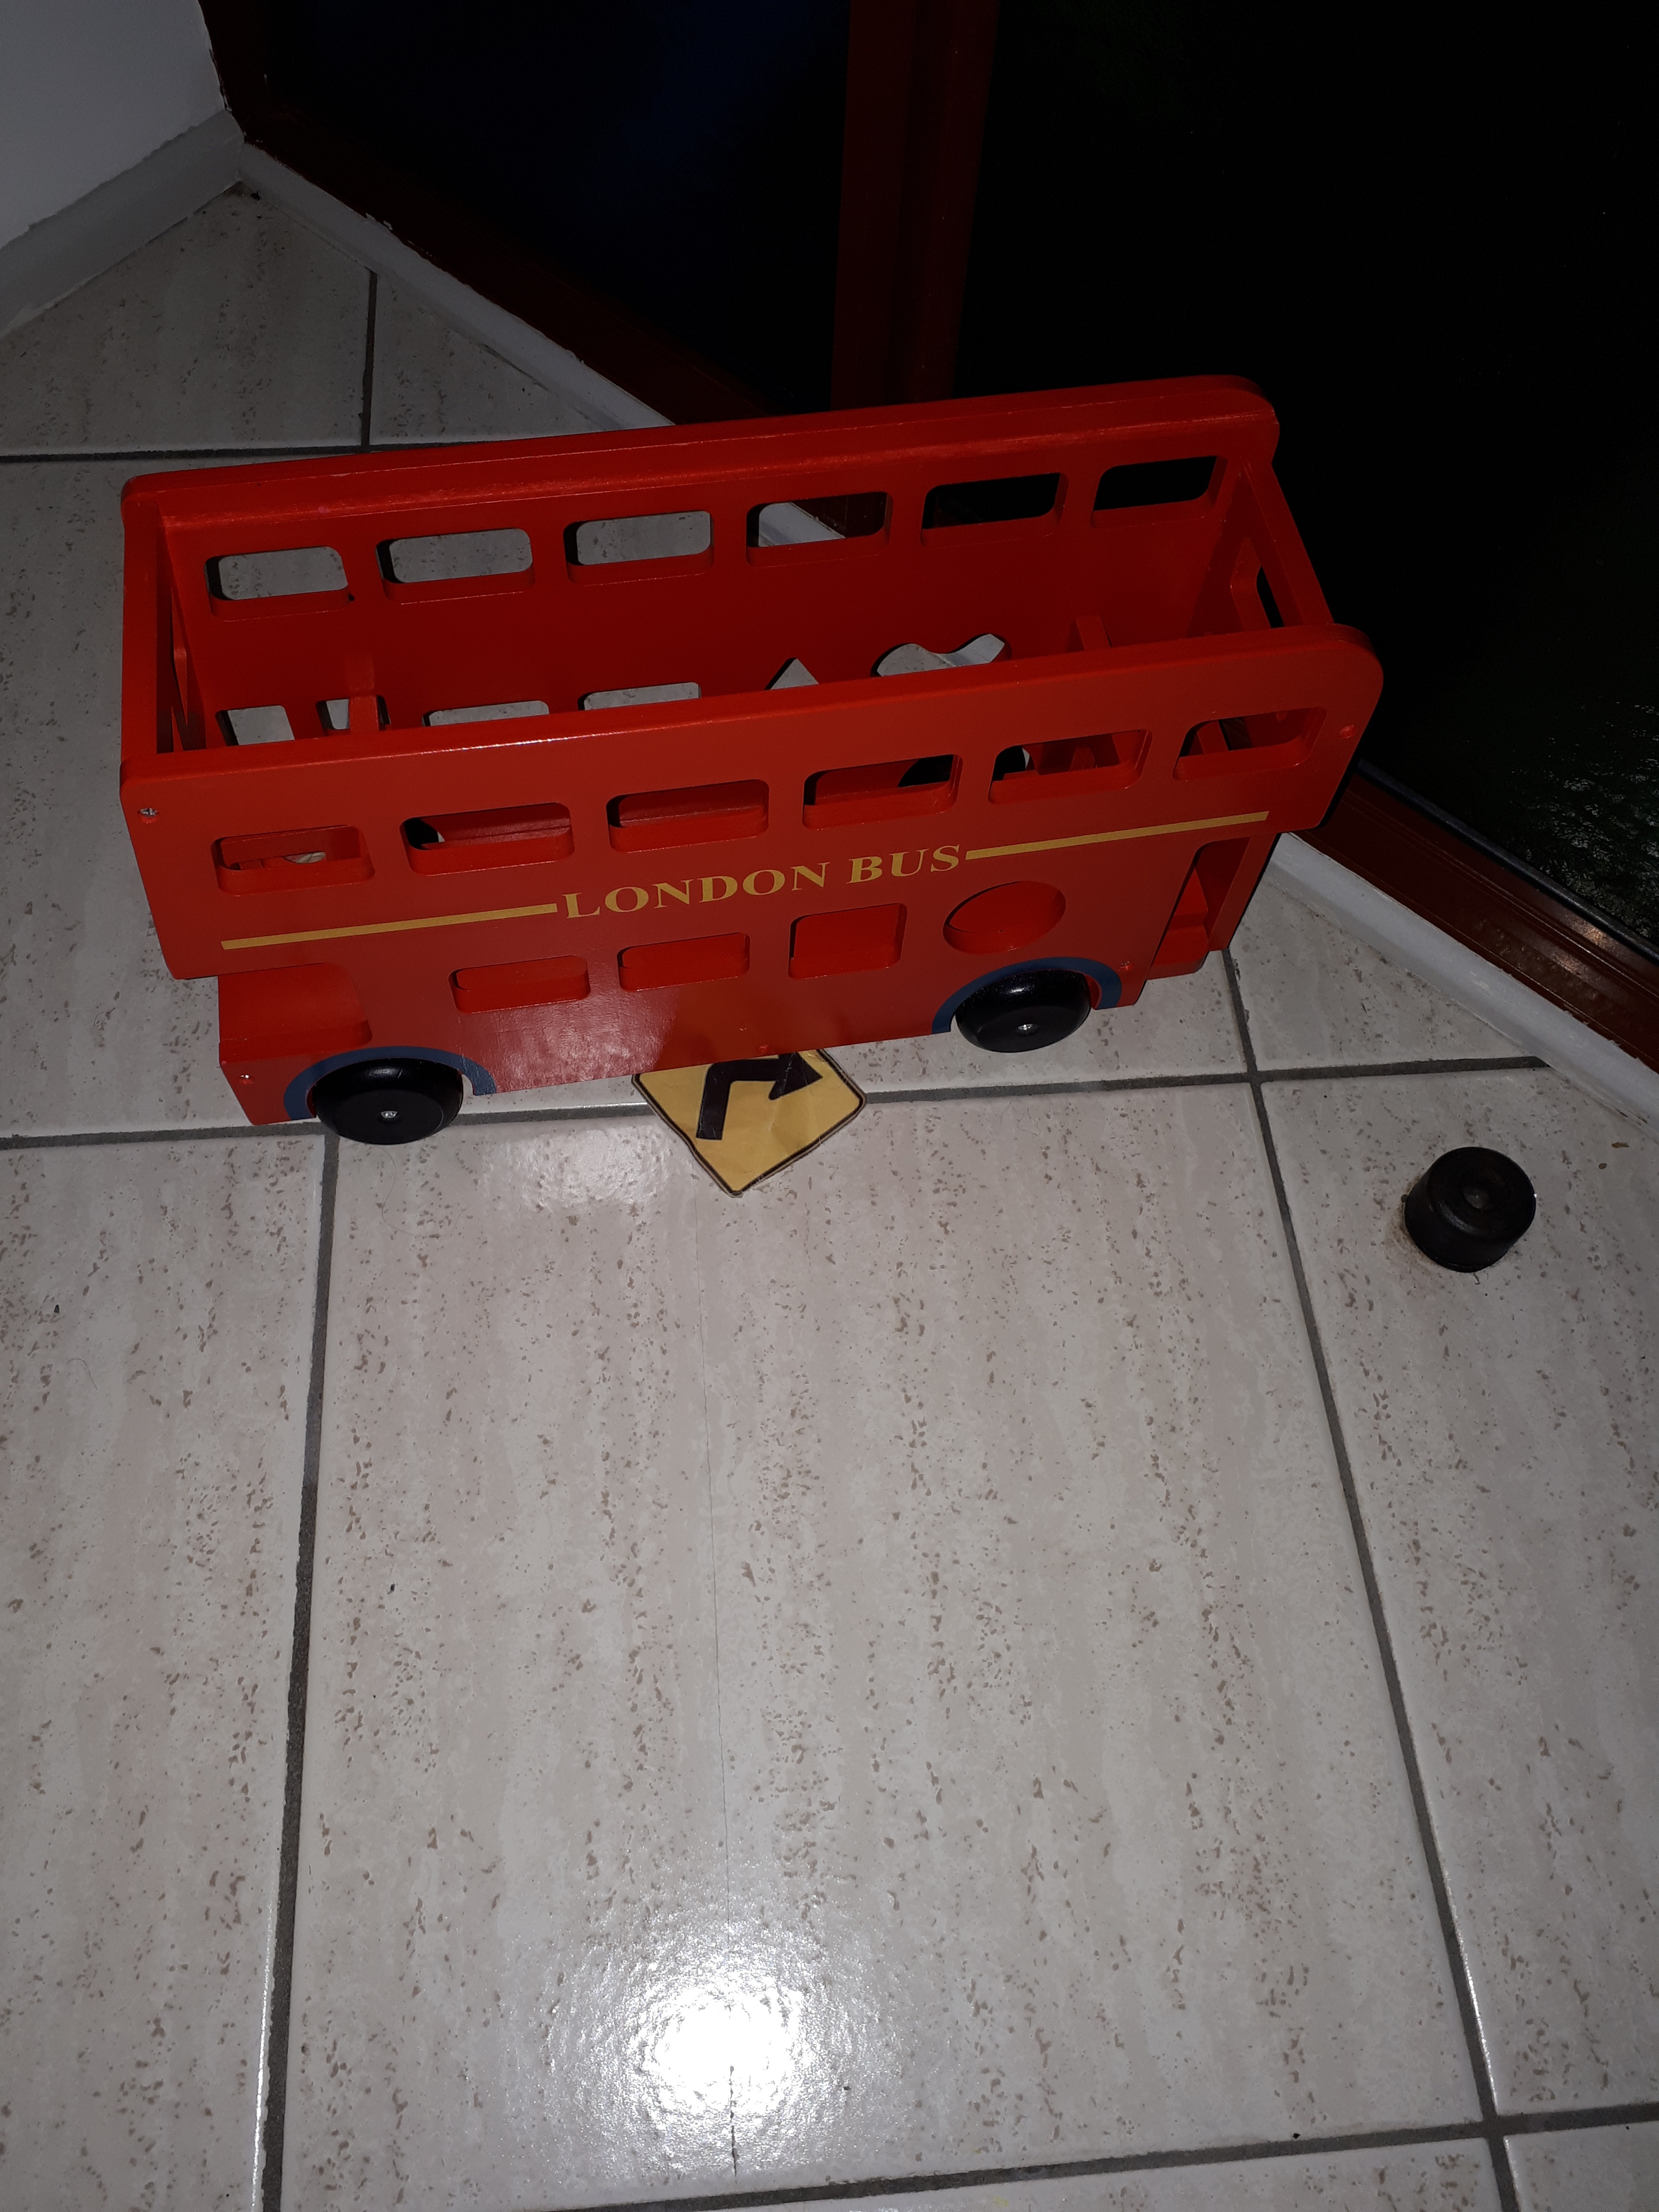right: (587, 986, 903, 1221), (660, 1035, 856, 1188)
